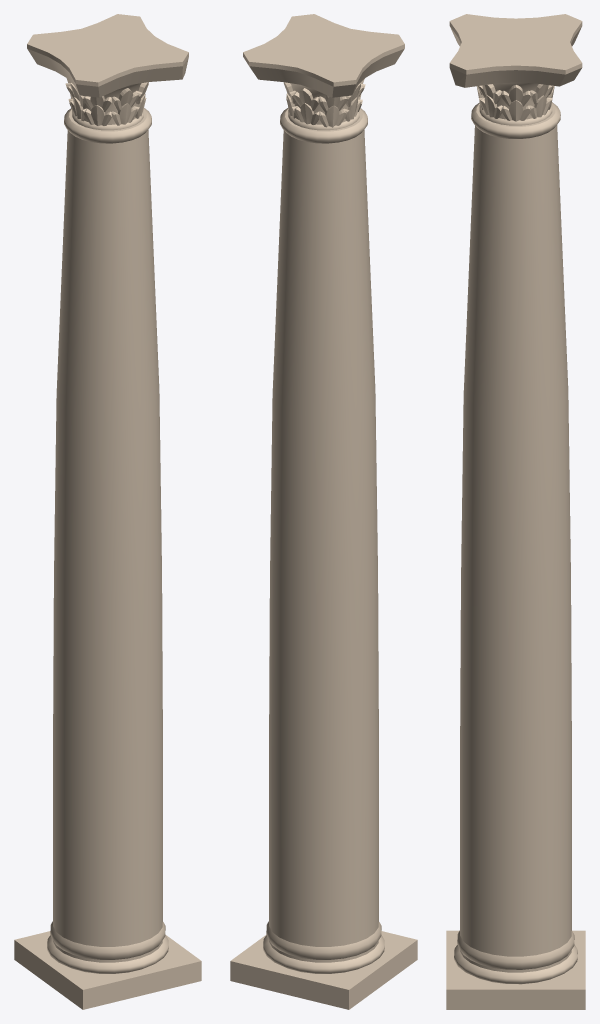
The model's file is BC_Pillar_A.fbx.
The picture shows the model from 3 angles, left to right: view 1: azimuth 30°, elevation 25°; view 2: azimuth 150°, elevation 25°; view 3: azimuth 270°, elevation 25°; orthographic projection.
Visible parts, largest first — view 1: BC_Pillar_A; view 2: BC_Pillar_A; view 3: BC_Pillar_A.
Boxes of the visible parts, left/top/right/bottom form: BC_Pillar_A: left=14, top=14, right=201, bottom=1009; BC_Pillar_A: left=230, top=14, right=417, bottom=1009; BC_Pillar_A: left=446, top=14, right=585, bottom=1009.
Bounding box in the file's own units: 132 × 982 × 132.
